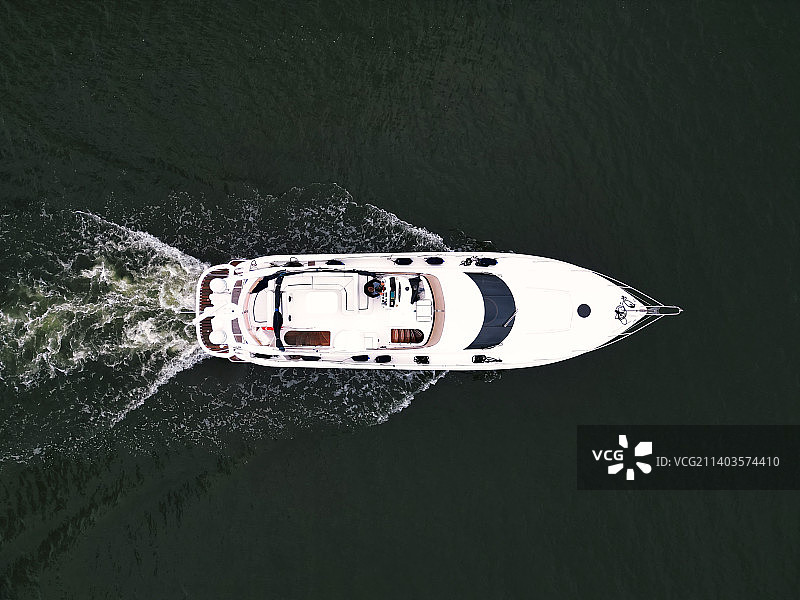ship: (150, 219, 693, 384)
